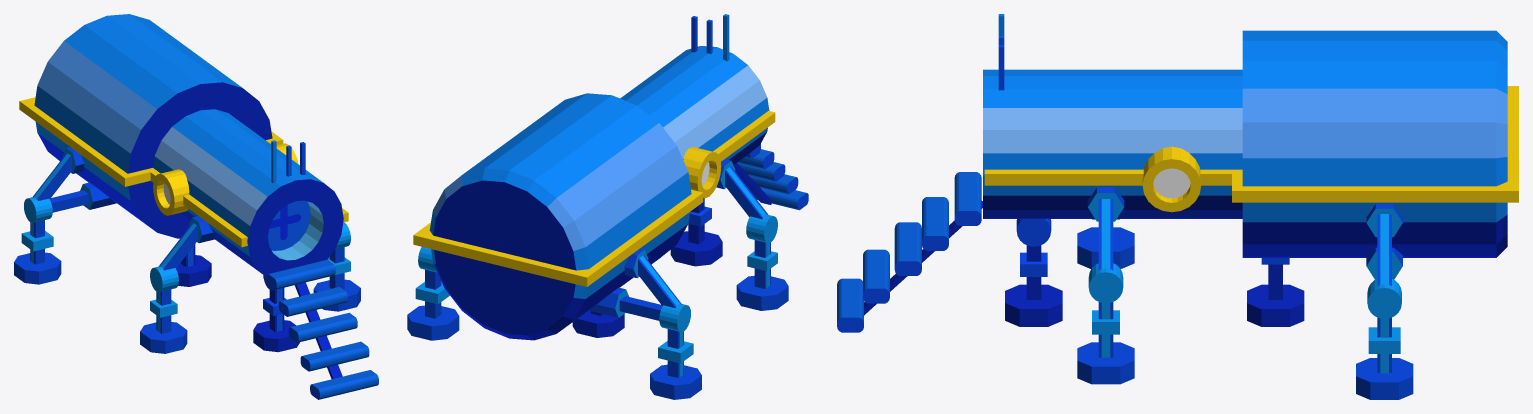
File: Building_038_b.fbx
The picture shows the model from 3 angles, left to right: view 1: azimuth 30°, elevation 25°; view 2: azimuth 150°, elevation 25°; view 3: azimuth 270°, elevation 25°; orthographic projection. The views are drawn at different scales.
Visible parts, largest first — view 1: Building_038_b; view 2: Building_038_b; view 3: Building_038_b.
Part boxes in pixels (bbox=[...]): Building_038_b: bbox=[14, 14, 378, 399]; Building_038_b: bbox=[407, 14, 808, 399]; Building_038_b: bbox=[837, 14, 1518, 399].
Size of the model in its own units: 22.17 by 17.55 by 37.45.
